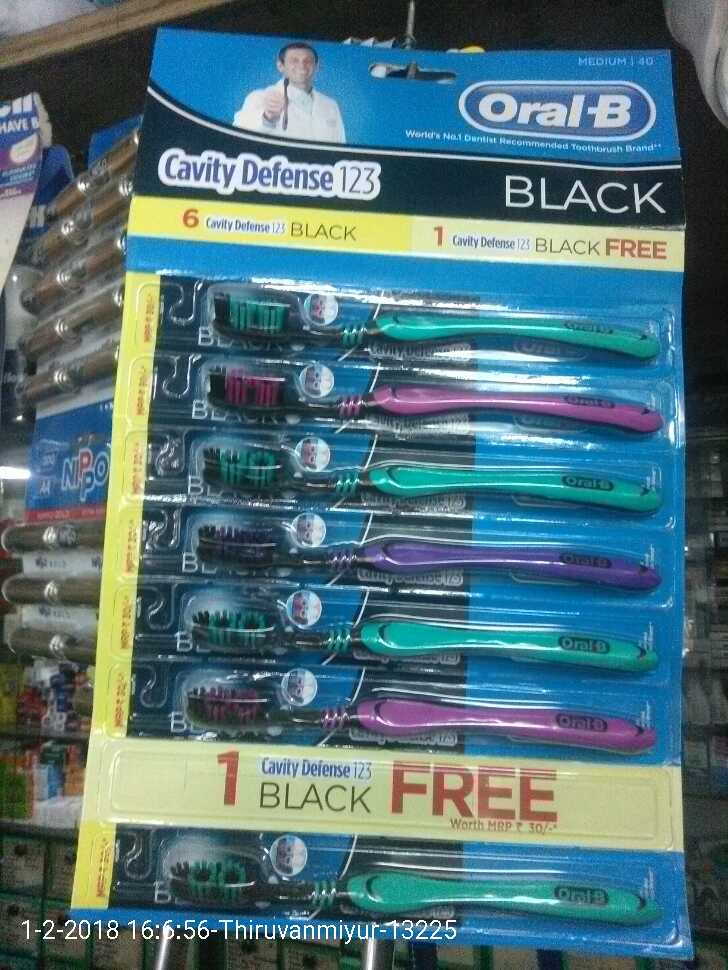oralb: (165, 837, 674, 943), (178, 671, 679, 762), (182, 579, 665, 668), (213, 280, 677, 368), (181, 514, 660, 596), (195, 435, 663, 514), (192, 360, 658, 439)
